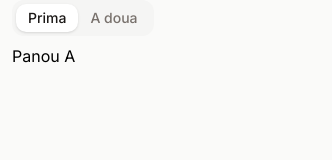
Test: Tabs switch the visible panel when a trigger is clicked
Expected: the text "Panou A" is shown, [12,46,75,66]
Expected: the text "Panou B" is not shown
Click the tab "A doua" at (114, 18), box [78,4,150,32]
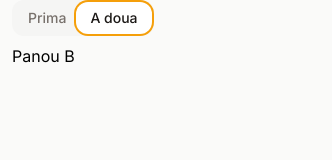
Expected: the text "Panou A" is gone
